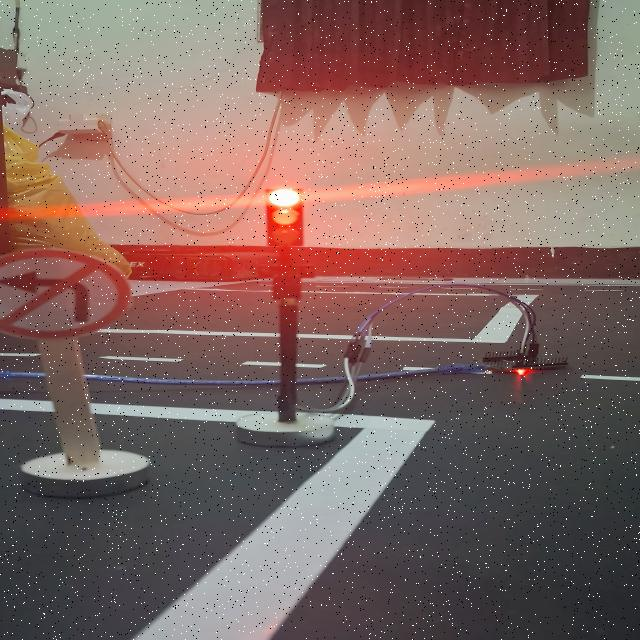Dilarang Belok Kiri: (0, 250, 131, 342)
Lampu Merah: (260, 187, 311, 250)
